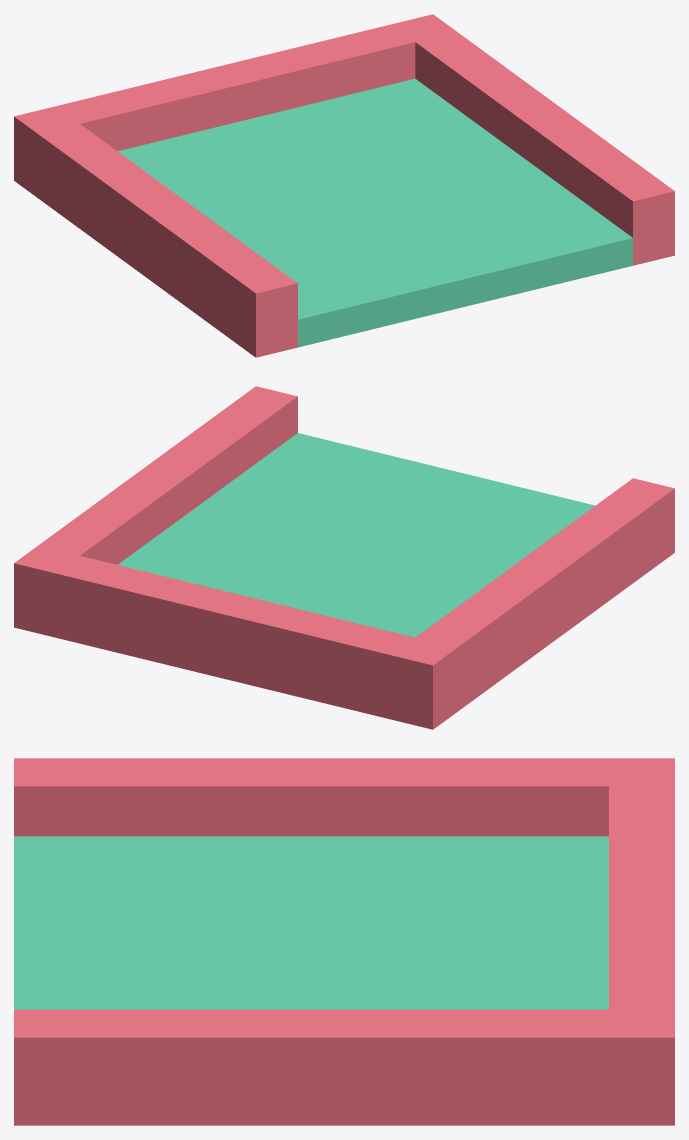
File: end.glb
The picture shows the model from 3 angles, top to bottom: view 1: azimuth 30°, elevation 25°; view 2: azimuth 150°, elevation 25°; view 3: azimuth 270°, elevation 25°; orthographic projection. The views are drawn at different scales.
Visible parts, largest first — view 1: end; view 2: end; view 3: end.
Boxes of the visible parts, x1,y1,x2,y2 form: end: (14, 14, 674, 357); end: (14, 386, 674, 729); end: (14, 758, 674, 1125).
Bounding box in the file's own units: 0.9999 × 0.1466 × 0.9999.
